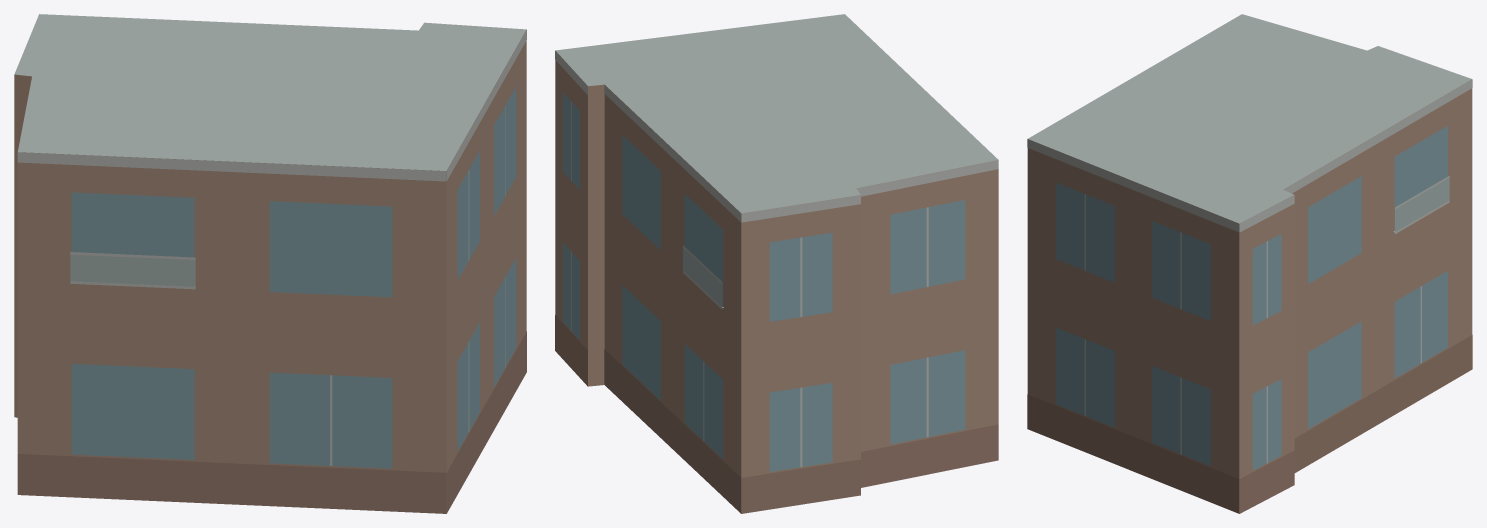
The model's file is survey-upis-32984592.glb.
3 views of the same model, side by side, from view 1: azimuth 30°, elevation 25°; view 2: azimuth 150°, elevation 25°; view 3: azimuth 270°, elevation 25° (orthographic). The views are drawn at different scales.
Parts seen in each view (by area): view 1: survey-upis-32984592.tmp; view 2: survey-upis-32984592.tmp; view 3: survey-upis-32984592.tmp.
Boxes of the visible parts, x1,y1,x2,y2 form: survey-upis-32984592.tmp: (14, 14, 526, 513); survey-upis-32984592.tmp: (555, 14, 998, 513); survey-upis-32984592.tmp: (1027, 14, 1472, 513).
Size of the model in its own units: 12.4 by 8 by 11.12.
